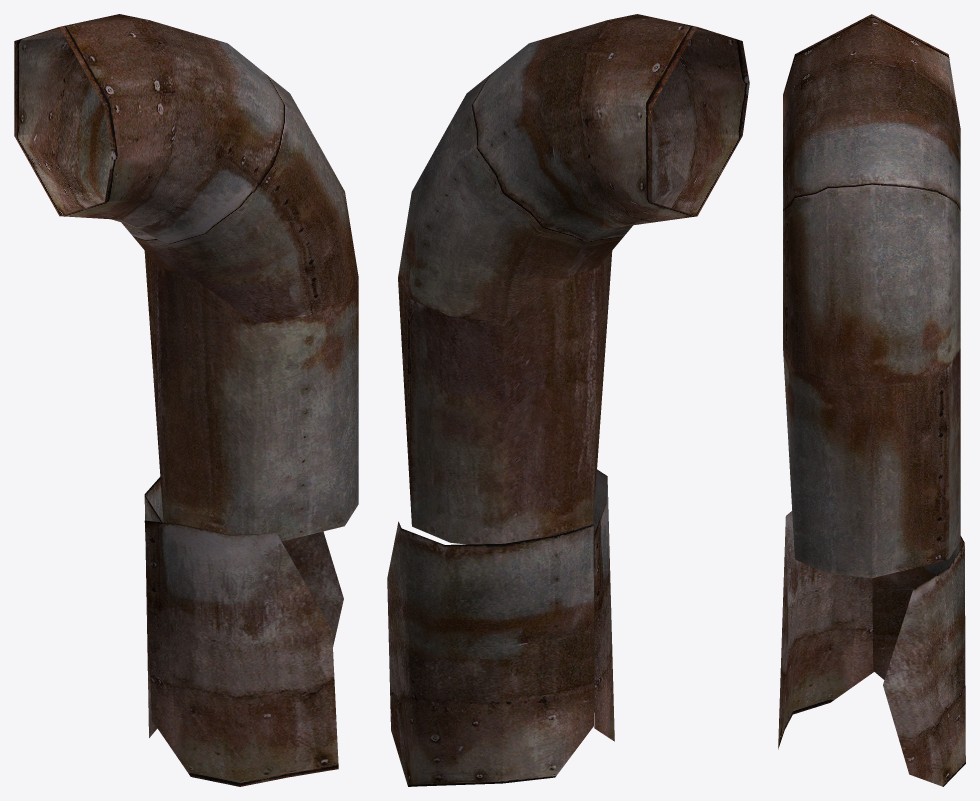
Rendered from truba 2 povorot.FBX.
The picture shows the model from 3 angles, left to right: view 1: azimuth 30°, elevation 25°; view 2: azimuth 150°, elevation 25°; view 3: azimuth 270°, elevation 25°; orthographic projection. The views are drawn at different scales.
Parts seen in each view (by area): view 1: 90turn06; view 2: 90turn06; view 3: 90turn06.
Boxes of the visible parts, x1,y1,x2,y2 form: 90turn06: (14,14,358,786); 90turn06: (387,14,749,786); 90turn06: (778,14,965,786).
Size of the model in its own units: 161 by 417 by 106.
